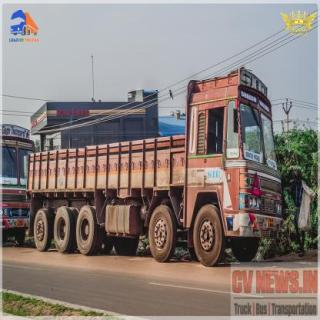Normal_vehicle: (24, 67, 288, 275)
